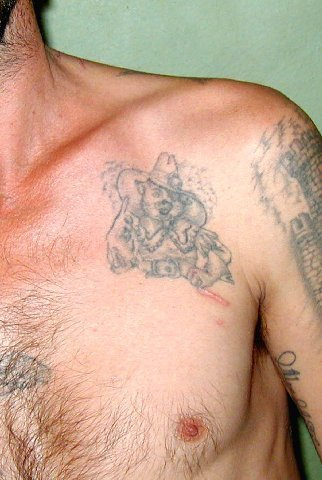tatu8_kot: (102, 149, 239, 290)
